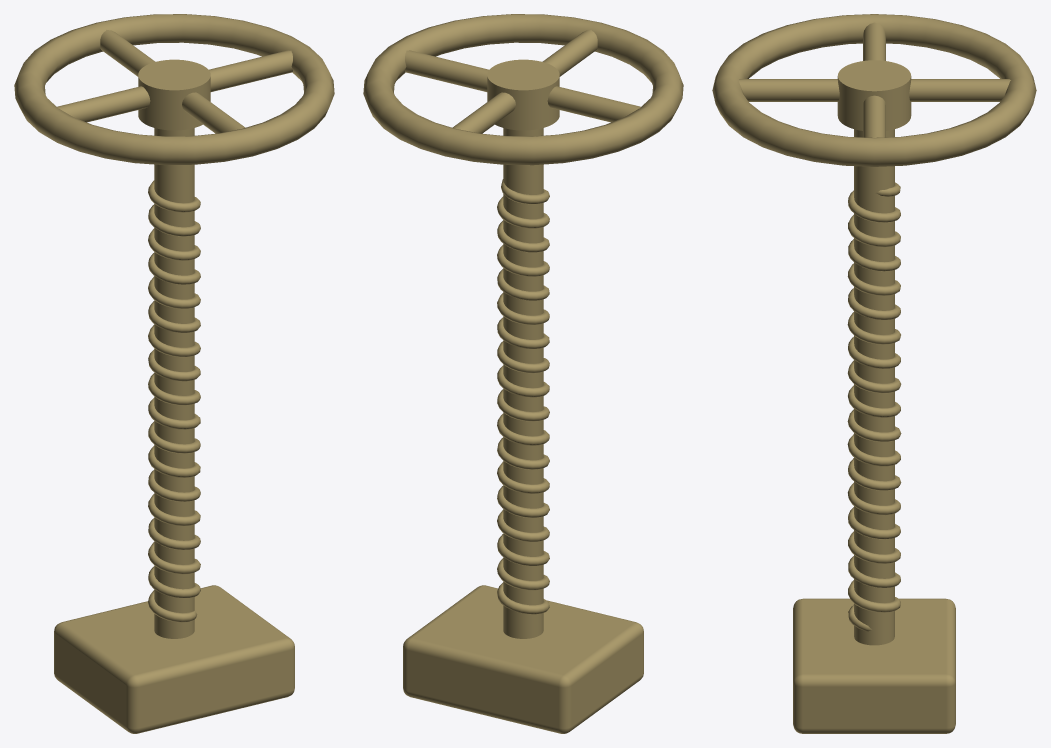
The model's file is water-clock-garden-and-hydraulic-puzzles-sluice-screw--30de4a37__31950.glb.
3 renders of one model, left to right at view 1: azimuth 30°, elevation 25°; view 2: azimuth 150°, elevation 25°; view 3: azimuth 270°, elevation 25°, orthographic.
Visible parts, largest first — view 1: sluice-screw-pedestal; view 2: sluice-screw-pedestal; view 3: sluice-screw-pedestal.
Boxes of the visible parts, box(x1,y1,x2,y2) form: sluice-screw-pedestal: box(14, 14, 334, 733); sluice-screw-pedestal: box(363, 14, 683, 733); sluice-screw-pedestal: box(712, 14, 1036, 733).
Size of the model in its own units: 0.398 by 0.84 by 0.398.
